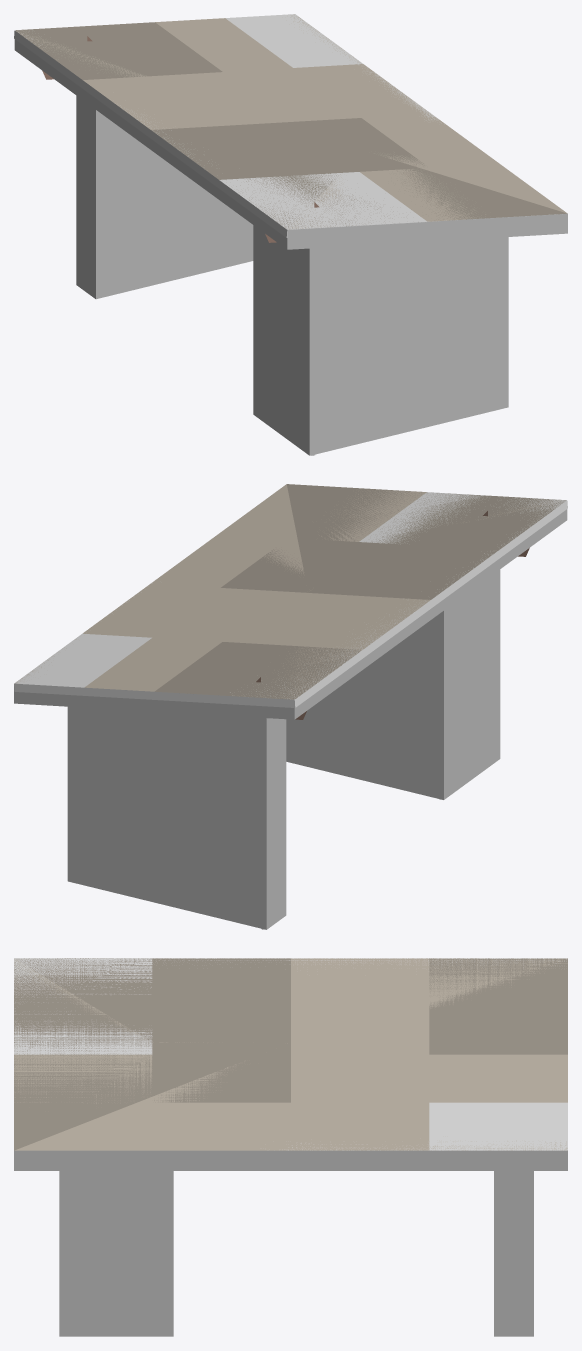
File: leanto_small.dae
3 views of the same model, one above another, from view 1: azimuth 30°, elevation 25°; view 2: azimuth 150°, elevation 25°; view 3: azimuth 270°, elevation 25° (orthographic).
Visible parts, largest first — view 1: Colmesh-1, leanto_small_a200, leanto_small_a050, leanto_small_a100; view 2: Colmesh-1, leanto_small_a200, leanto_small_a050, leanto_small_a100; view 3: leanto_small_a200, leanto_small_a050, Colmesh-1, leanto_small_a100.
Boxes of the visible parts, x1,y1,x2,y2 form: Colmesh-1: (14, 14, 567, 455); leanto_small_a200: (14, 14, 562, 455); leanto_small_a050: (155, 115, 567, 228); leanto_small_a100: (16, 14, 430, 229); Colmesh-1: (14, 504, 567, 929); leanto_small_a200: (14, 488, 567, 929); leanto_small_a050: (152, 484, 564, 599); leanto_small_a100: (15, 500, 565, 698); leanto_small_a200: (14, 958, 567, 1150); leanto_small_a050: (14, 958, 290, 1150); Colmesh-1: (14, 958, 567, 1336); leanto_small_a100: (14, 958, 567, 1150).
Size of the model in its own units: 5.43 by 9.12 by 4.73.
